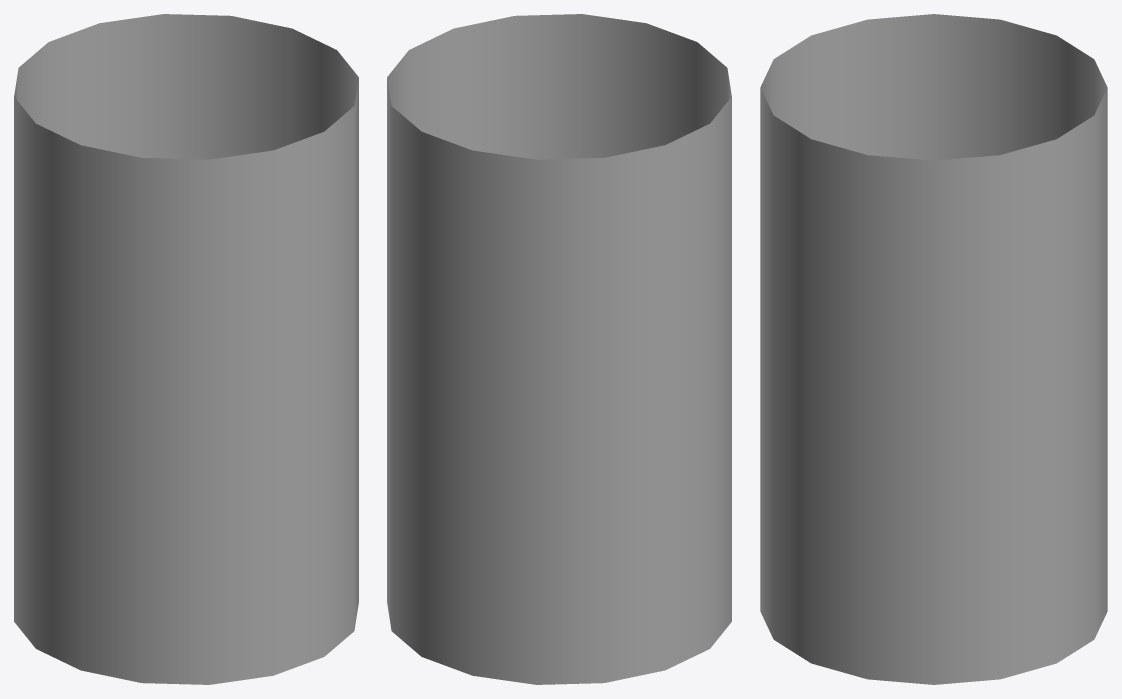
The model's file is white_item_aura.fbx.
The picture shows the model from 3 angles, left to right: view 1: azimuth 30°, elevation 25°; view 2: azimuth 150°, elevation 25°; view 3: azimuth 270°, elevation 25°; orthographic projection.
Visible parts, largest first — view 1: pCylinder1; view 2: pCylinder1; view 3: pCylinder1.
Part boxes in pixels (x1,y1,x2,y2): pCylinder1: (14, 14, 358, 684); pCylinder1: (387, 14, 731, 684); pCylinder1: (760, 14, 1107, 684).
Bounding box in the file's own units: 60 × 100 × 60.
Materials: 1 (1 with a texture image).
